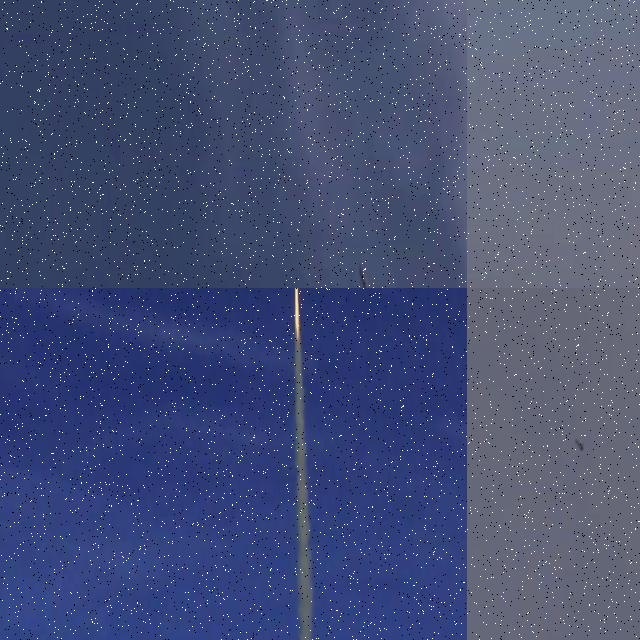Rocket: (359, 261, 380, 288), (575, 439, 583, 451)
